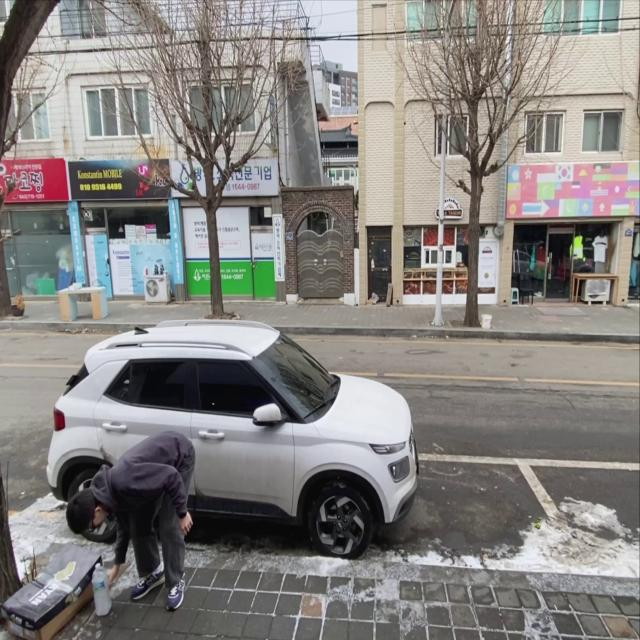bare_hand: (180, 509, 195, 540), (107, 564, 121, 588)
